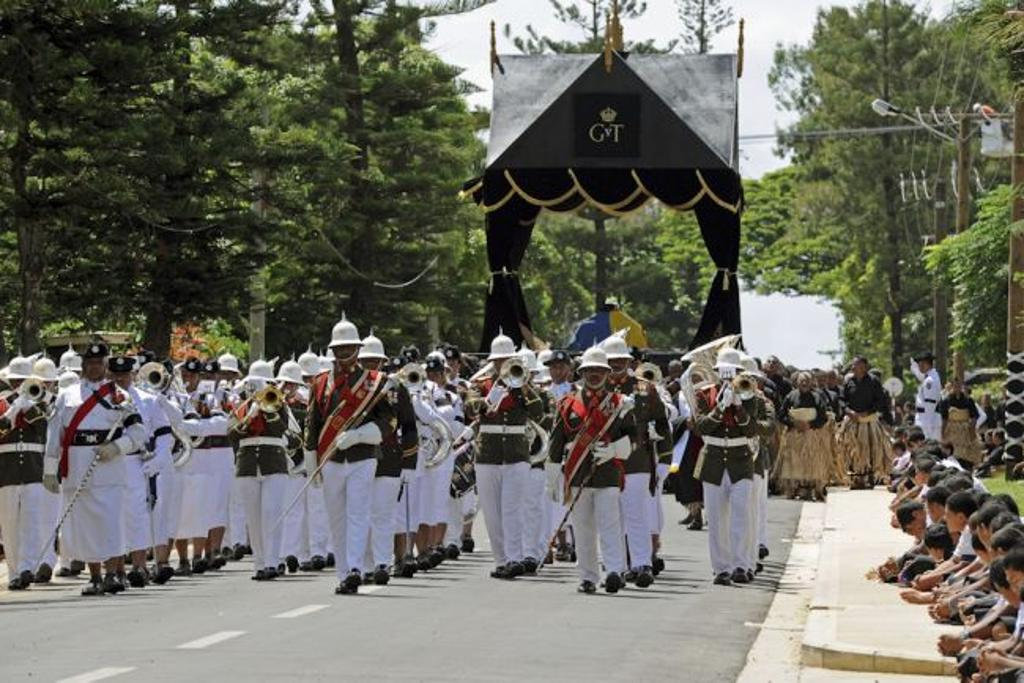face: (35, 376, 55, 404), (249, 380, 270, 406), (1006, 569, 1023, 600), (585, 364, 606, 387), (335, 343, 358, 364), (994, 581, 1015, 603), (945, 507, 960, 537), (605, 355, 625, 377), (977, 521, 991, 552), (112, 370, 130, 392), (86, 356, 104, 378), (494, 356, 511, 379), (281, 377, 299, 398), (180, 370, 198, 391), (363, 352, 380, 374), (300, 374, 317, 395), (10, 376, 28, 395), (551, 362, 568, 382), (428, 366, 443, 388), (927, 500, 941, 523), (199, 371, 215, 391), (974, 548, 990, 567), (903, 517, 924, 531), (220, 369, 235, 388), (445, 356, 459, 375), (926, 538, 939, 558), (391, 365, 405, 379), (857, 363, 867, 379), (766, 358, 778, 371), (915, 465, 923, 484), (405, 355, 417, 367), (799, 378, 810, 391), (670, 367, 680, 380), (910, 440, 919, 454), (850, 360, 859, 373), (919, 359, 928, 371), (938, 446, 947, 458), (741, 381, 751, 391), (903, 433, 911, 445), (827, 374, 836, 384), (816, 375, 825, 385), (794, 377, 802, 388), (893, 445, 901, 456), (944, 379, 951, 391), (954, 382, 960, 394), (986, 434, 992, 445), (993, 433, 998, 446), (838, 377, 844, 385), (981, 395, 986, 404), (905, 404, 911, 411), (895, 407, 901, 413)
